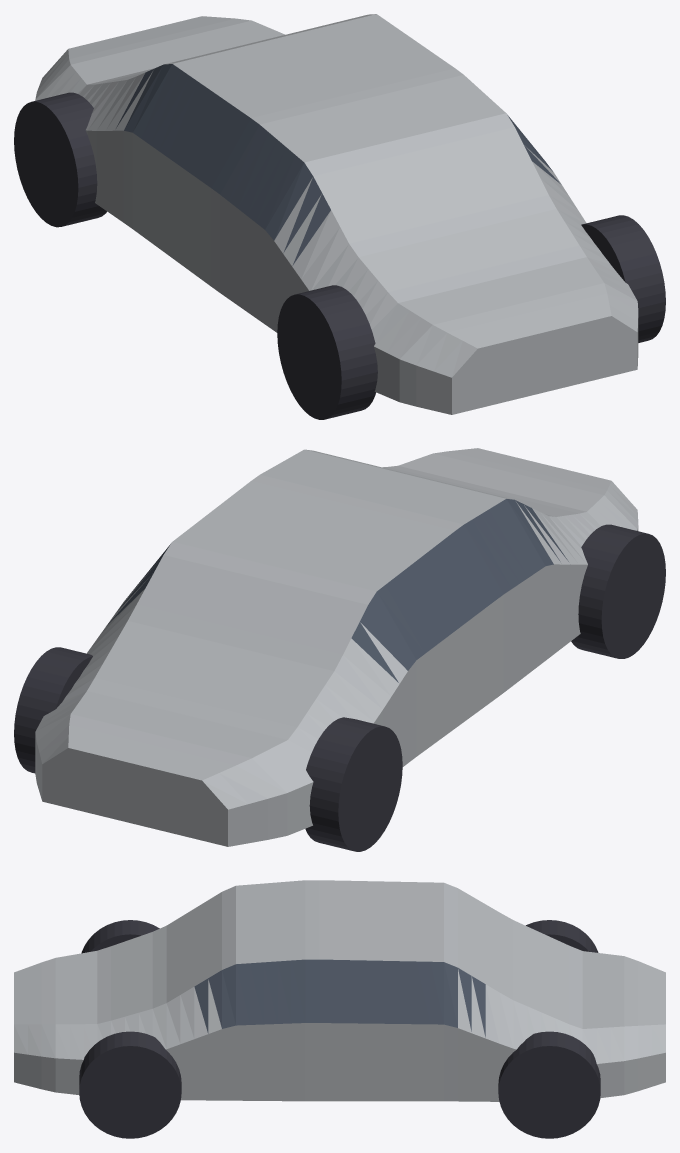
File: sedan.glb
3 views of the same model, one above another, from view 1: azimuth 30°, elevation 25°; view 2: azimuth 150°, elevation 25°; view 3: azimuth 270°, elevation 25° (orthographic). The views are drawn at different scales.
Visible parts, largest first — view 1: world; view 2: world; view 3: world.
Part boxes in pixels (bbox=[...]): world: bbox=[14, 14, 665, 419]; world: bbox=[14, 448, 665, 851]; world: bbox=[14, 880, 665, 1138].
Bounding box in the file's own units: 1.92 × 1.11 × 4.2.
